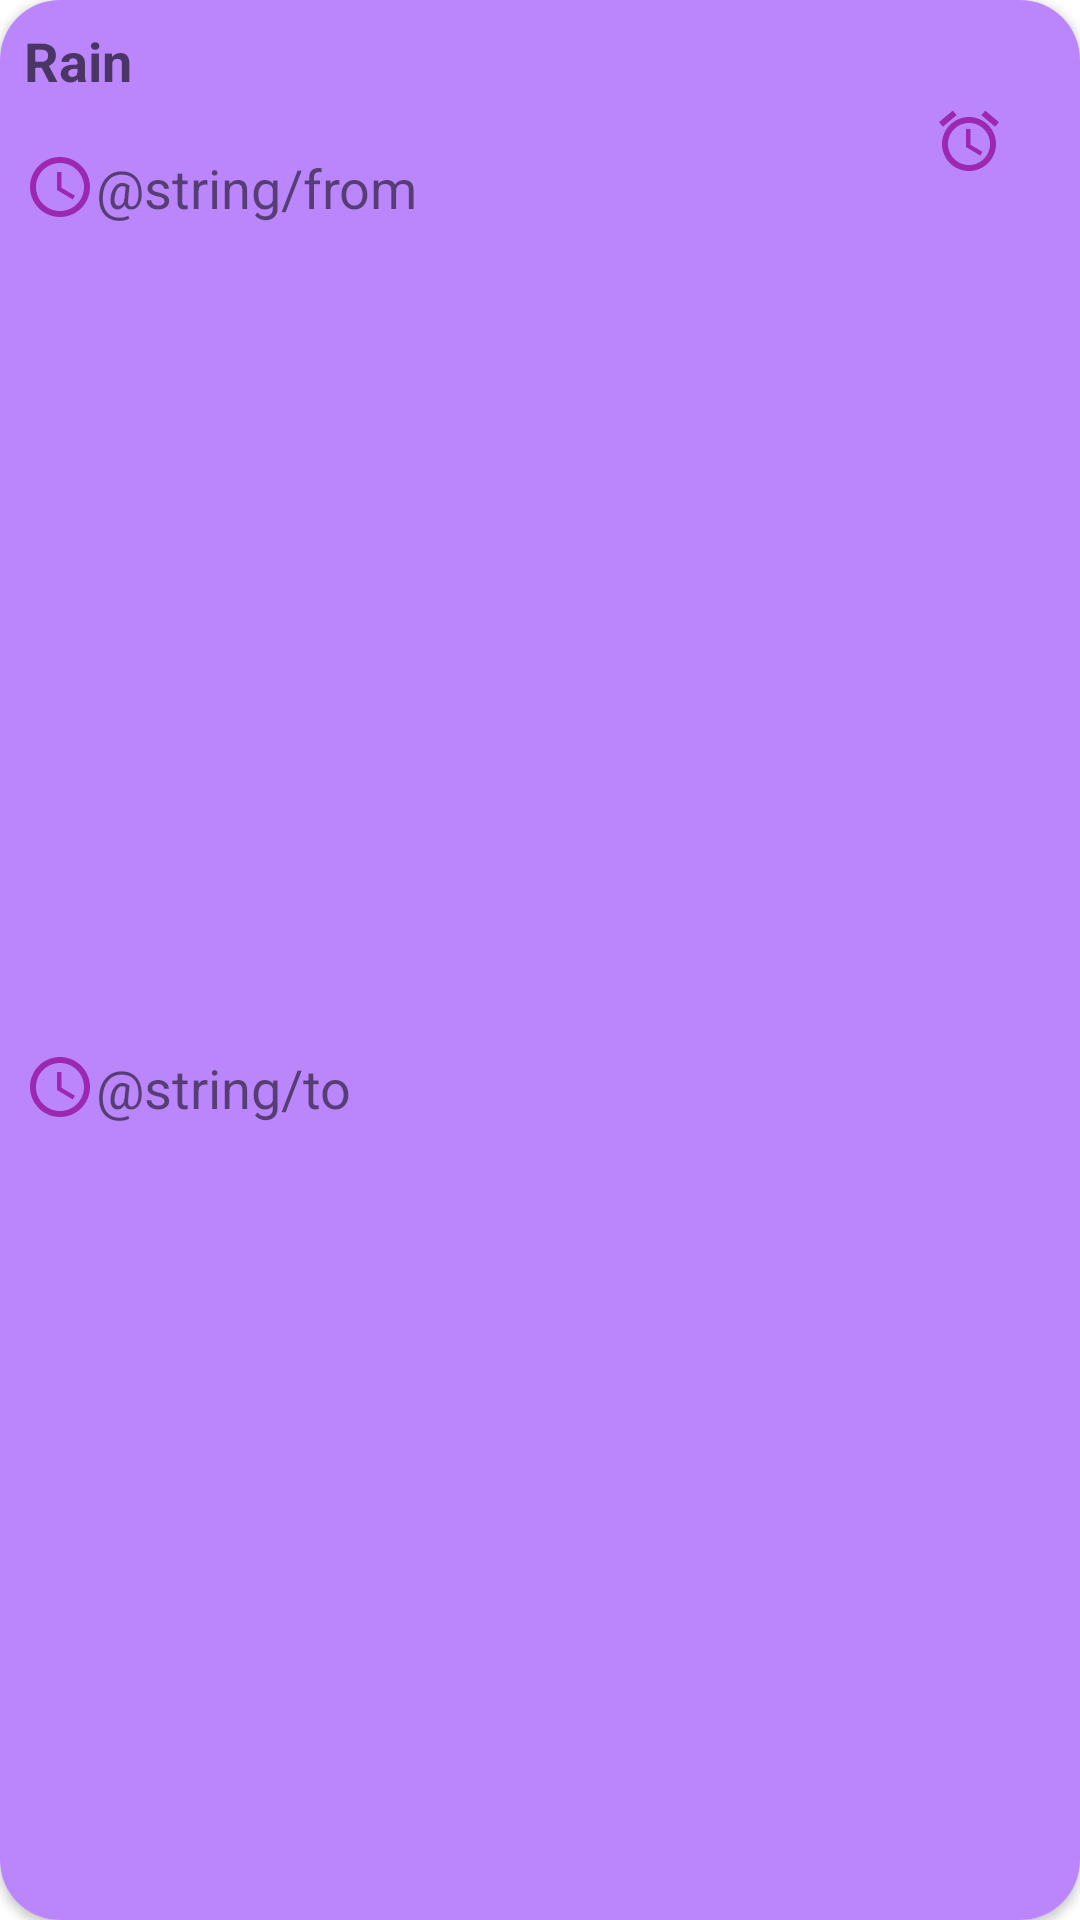

Icon bounding boxes for this 1080x1920 phone screenshot, format (x1, y1, x2, y2):
alarm: (939, 111, 999, 171)
